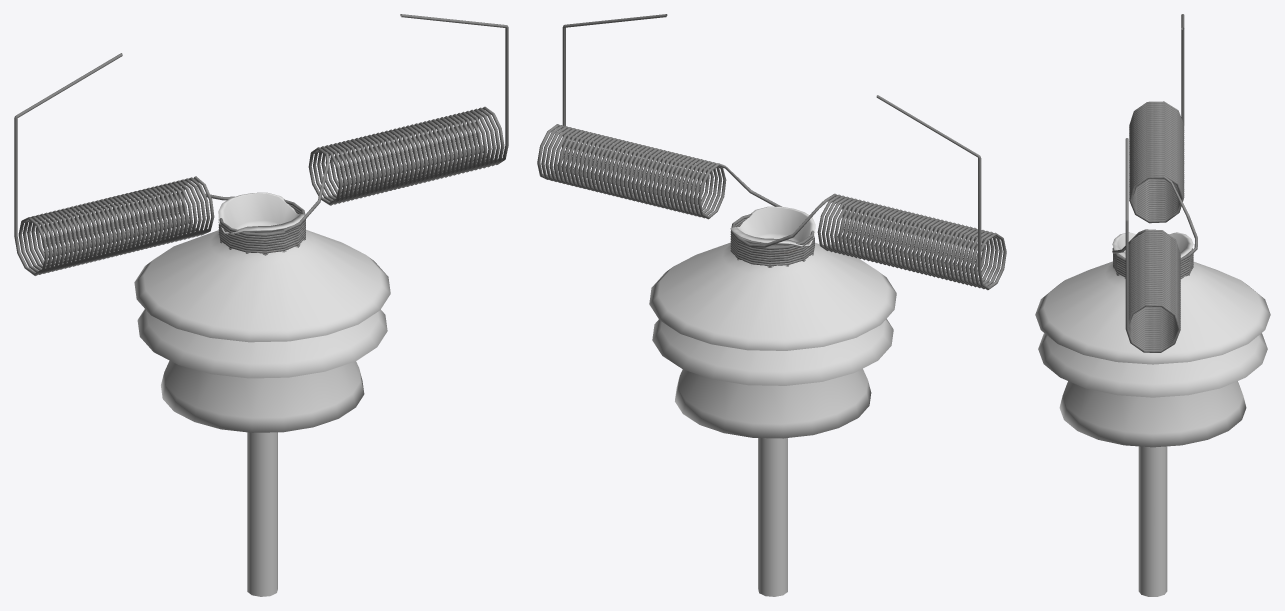
File: 33_11kv_pin_insulator.fbx
3 renders of one model, left to right at view 1: azimuth 30°, elevation 25°; view 2: azimuth 150°, elevation 25°; view 3: azimuth 270°, elevation 25°, orthographic. The views are drawn at different scales.
Parts seen in each view (by area): view 1: 11KV, Circle.002, Circle; view 2: 11KV, Circle.002, Circle; view 3: 11KV, Circle.002, Circle.
Part boxes in pixels (<box>): 11KV: <box>134,192,390,596</box>; Circle.002: <box>14,14,508,275</box>; Circle: <box>193,153,329,255</box>; 11KV: <box>649,206,896,596</box>; Circle.002: <box>537,14,1006,290</box>; Circle: <box>719,163,826,267</box>; 11KV: <box>1035,232,1270,596</box>; Circle.002: <box>1125,14,1184,352</box>; Circle: <box>1112,176,1197,278</box>.
Size of the model in its own units: 208 by 239 by 100.
